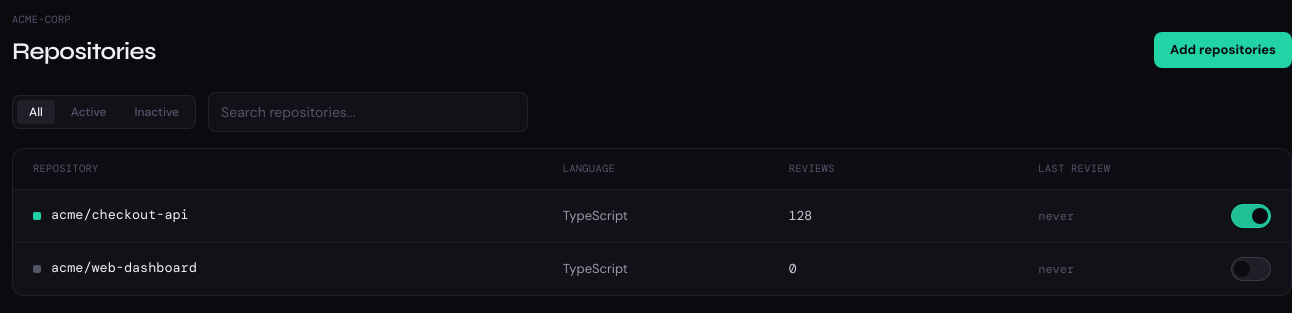
Test: ReposList › filters by active status
Expected: the text "acme/checkout-api" is shown, 51,205 -> 189,226
Step 1. Click the button "active" → [89, 112], box 59,100 -> 118,124
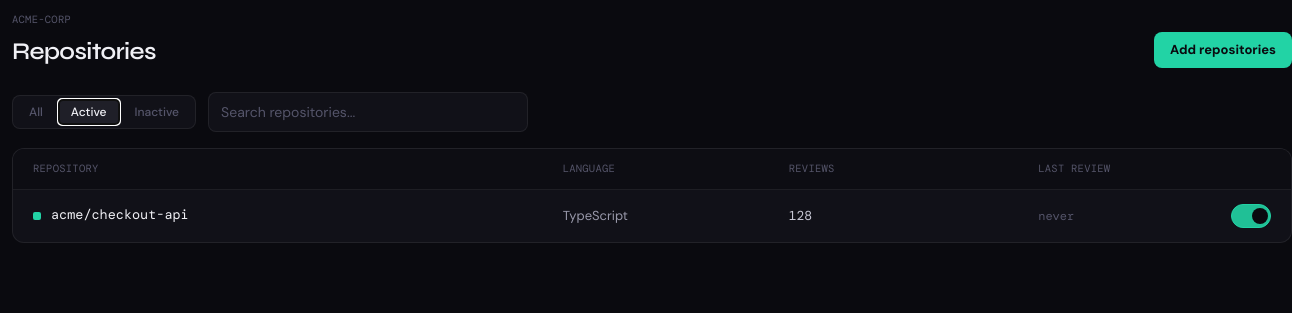
Expected: the text "acme/checkout-api" is shown, 51,205 -> 189,226
Expected: the text "acme/web-dashboard" is gone
